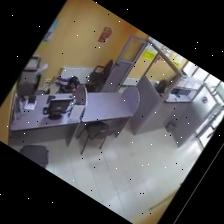person: (57, 76, 78, 93)
